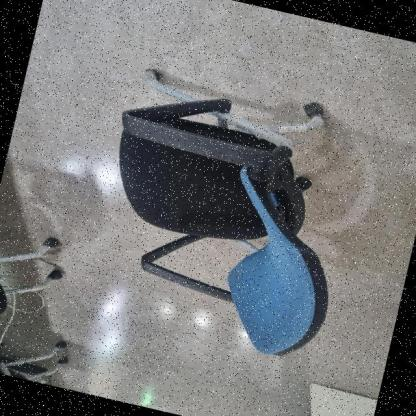Chair: (57, 40, 393, 378)
